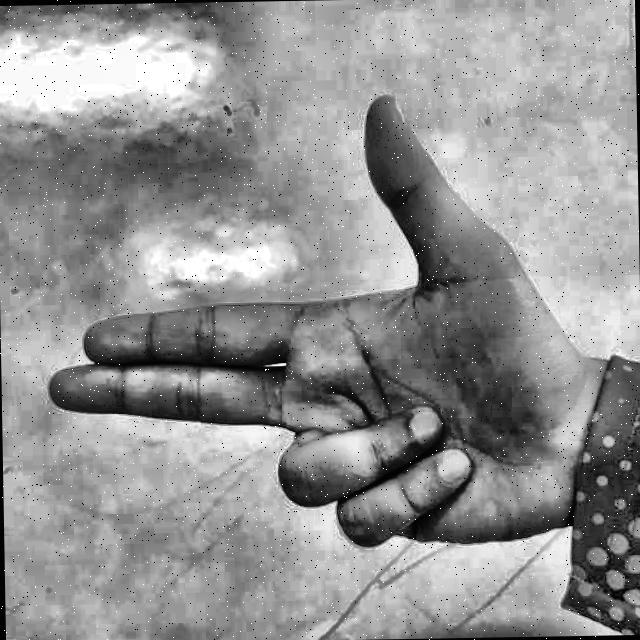Jha: (26, 52, 612, 622)
